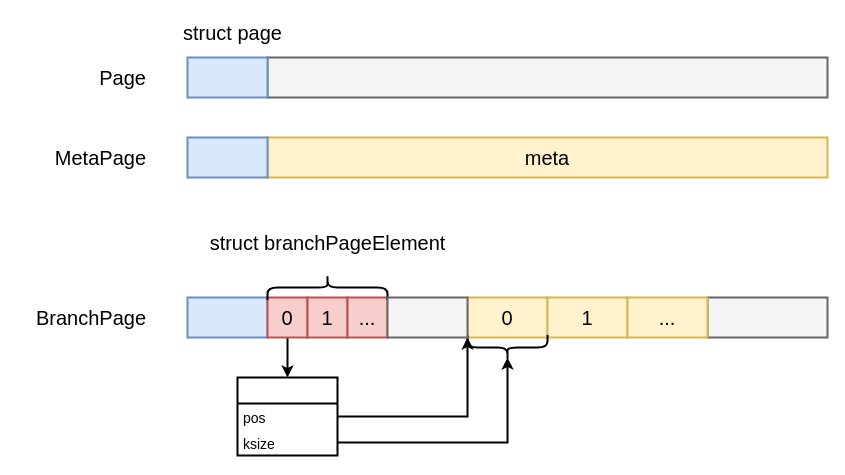
Some shapes in this 845 by 475 pixel diagram are drawn without their labels. Each missing label, with the box of its shape:
page.count: (266, 274, 388, 300)
struct: (236, 376, 338, 456)
